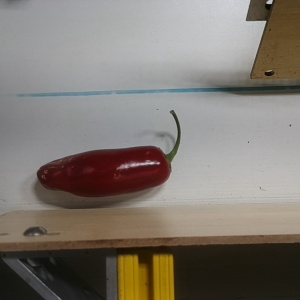Cut Point: (150, 144, 179, 183)
